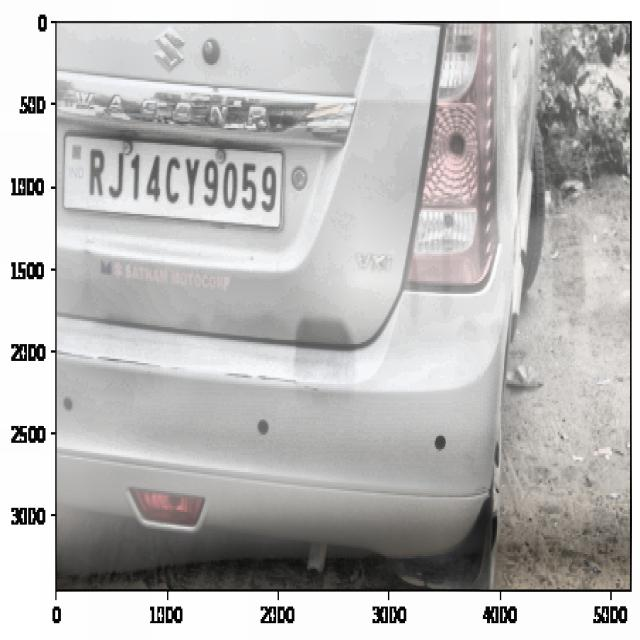license_plate: (81, 142, 282, 225)
